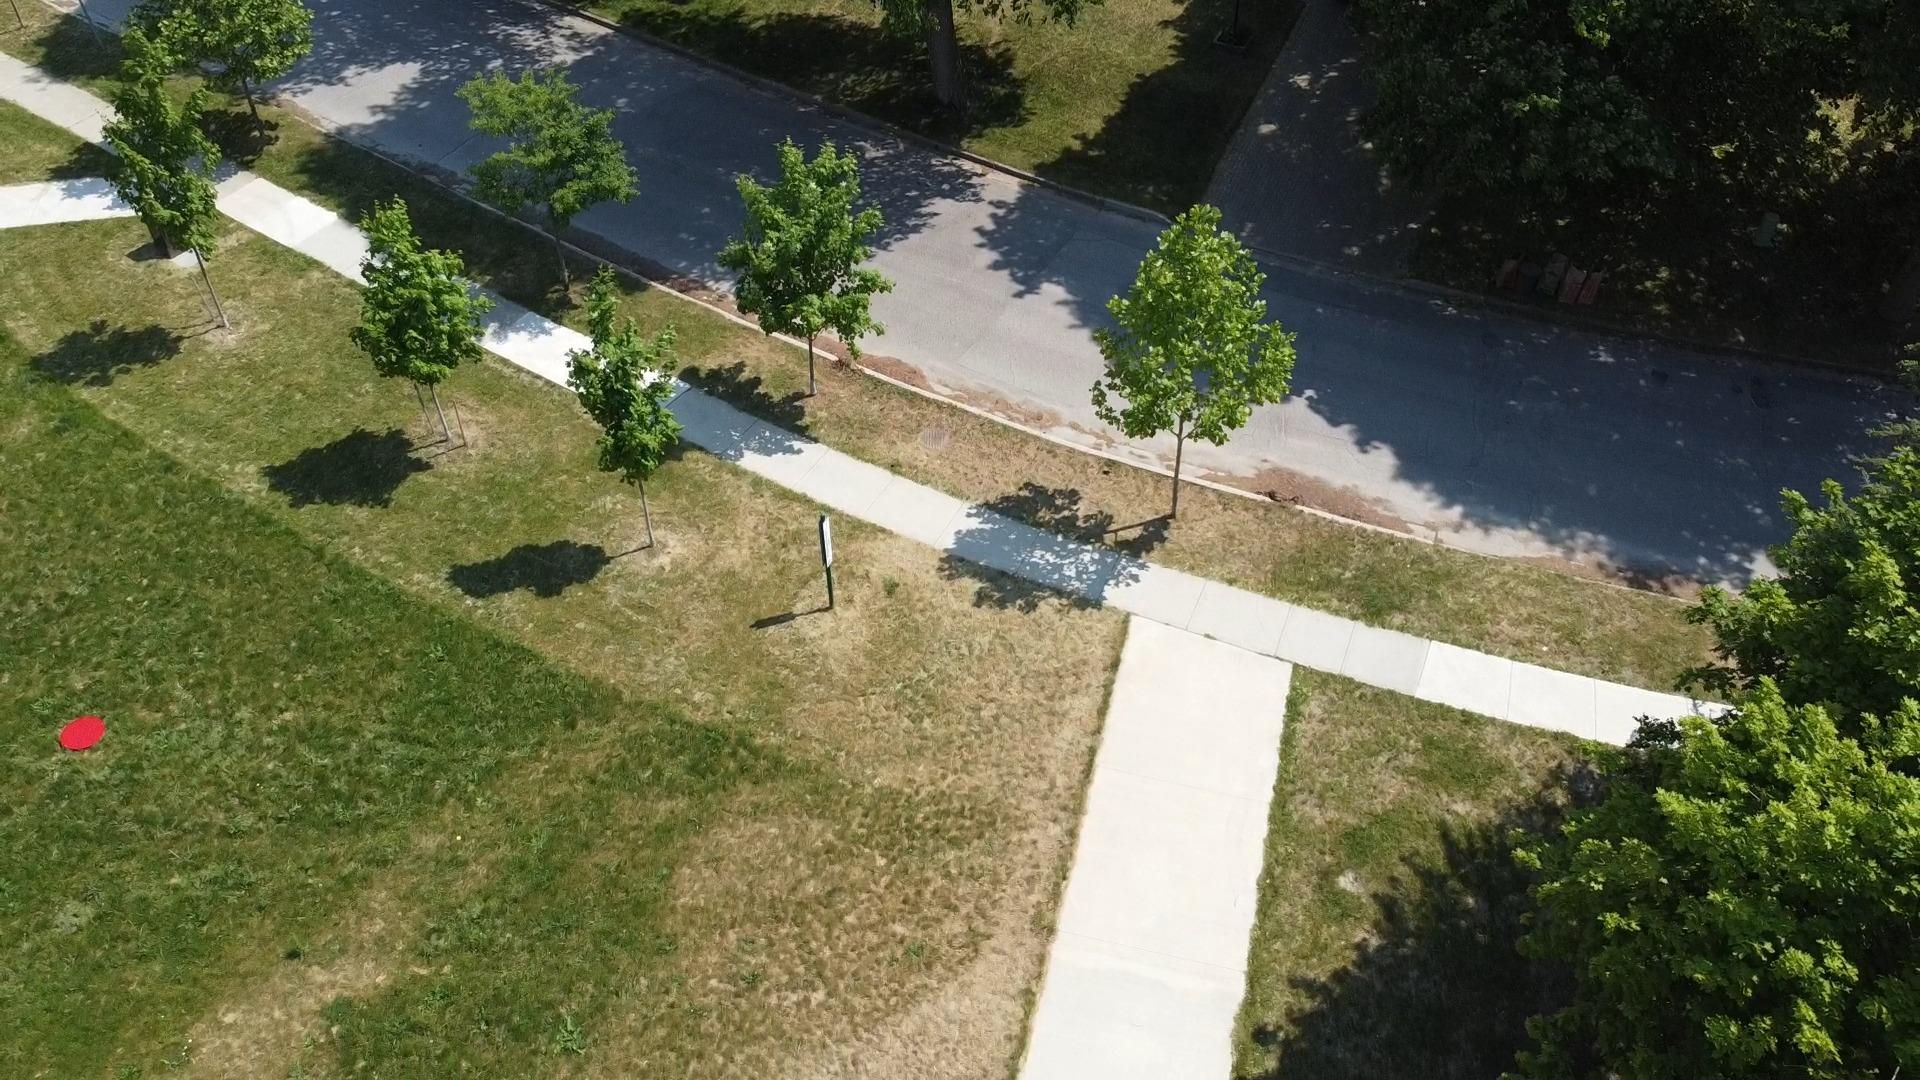Red: (58, 715, 107, 752)
